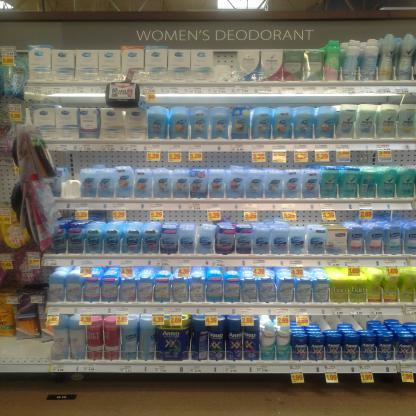Void: (0, 337, 45, 361), (56, 153, 141, 164), (206, 154, 246, 162), (174, 212, 199, 221), (397, 152, 415, 164)
